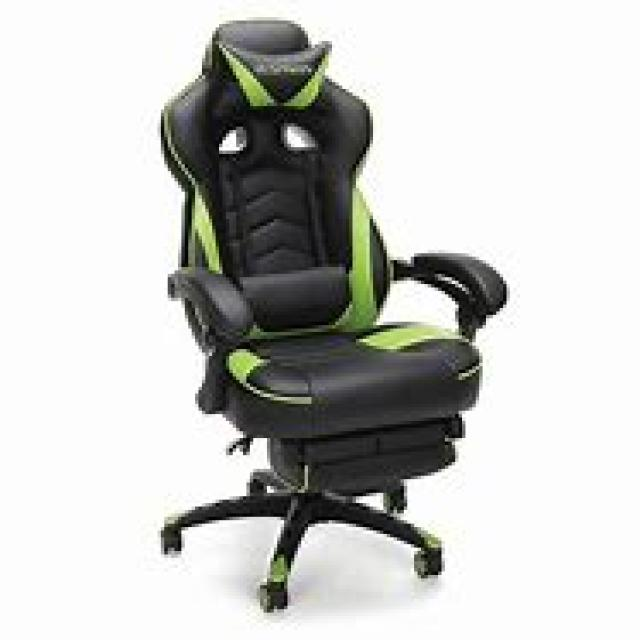chair: (154, 14, 507, 612)
